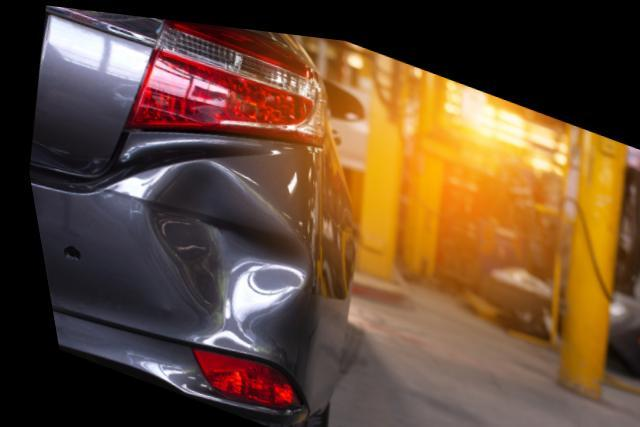dent: (141, 155, 302, 342)
